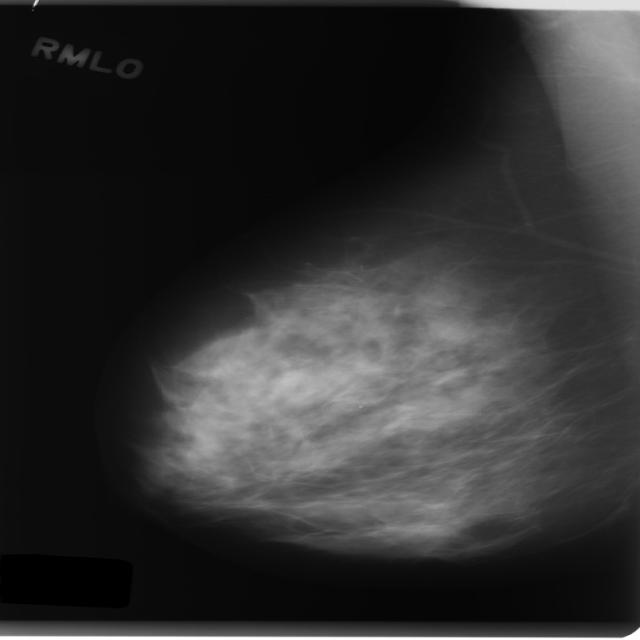tumour: (422, 311, 482, 342)
